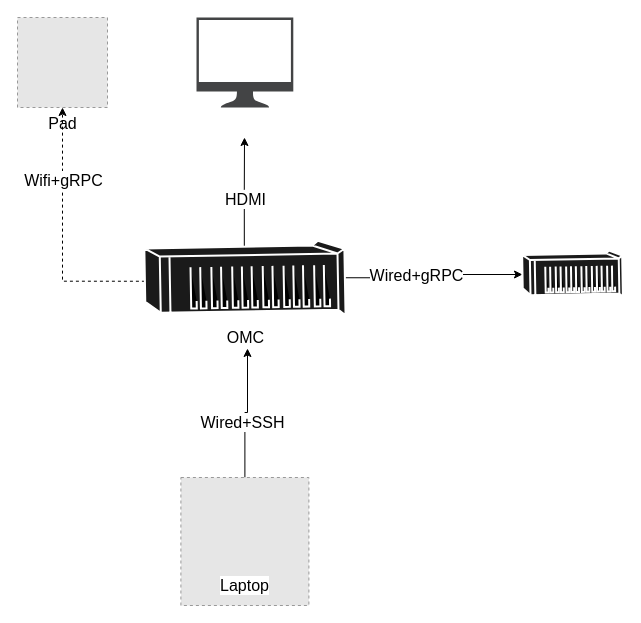
The diagram is 641 pixels wide and 623 high, and some of its shapes have lost their labels. Grey dashed boxes stand in for pictures. The shapes that lost their labels are listed below. From the top down, each one's box as (x1, y1, x2, y2) in pixels, then its label:
(196, 17, 293, 107): Display
(521, 249, 623, 299): Xavier
